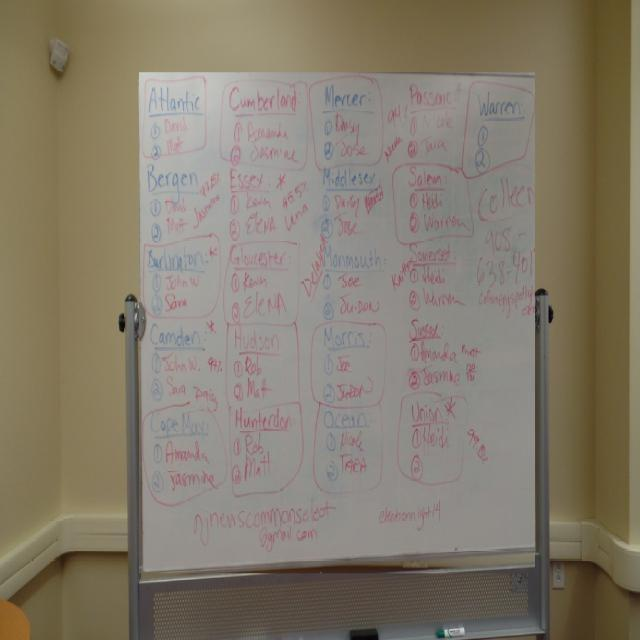Whiteboard: (137, 70, 538, 573)
